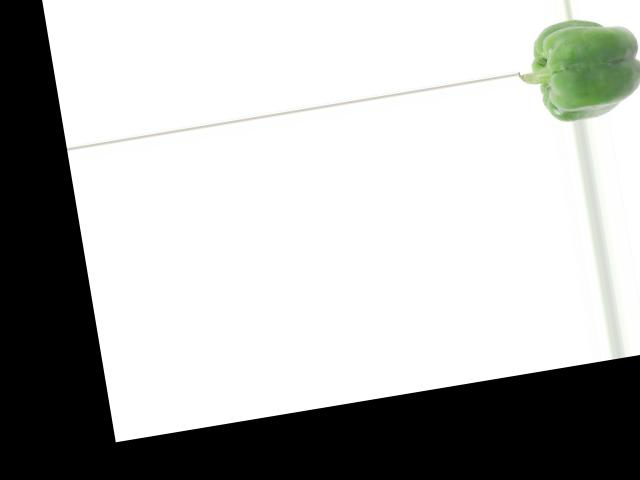bell_pepper: (513, 10, 640, 126)
